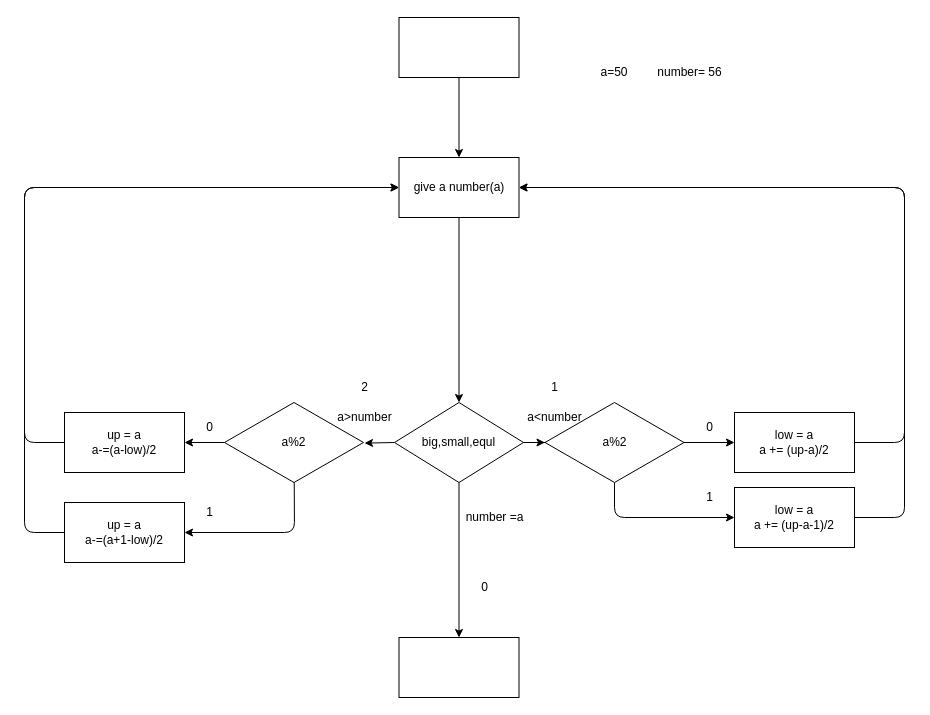
The diagram is 930 pixels wide and 715 high, and some of its shapes have lost their labels. Each missing label, with the centre of its shape:
"right!" goes at point (458, 667).
"say :enter" goes at point (458, 47).
